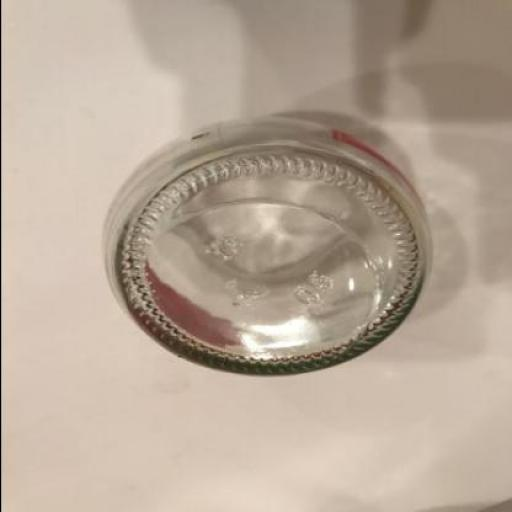glass: (101, 119, 429, 378)
